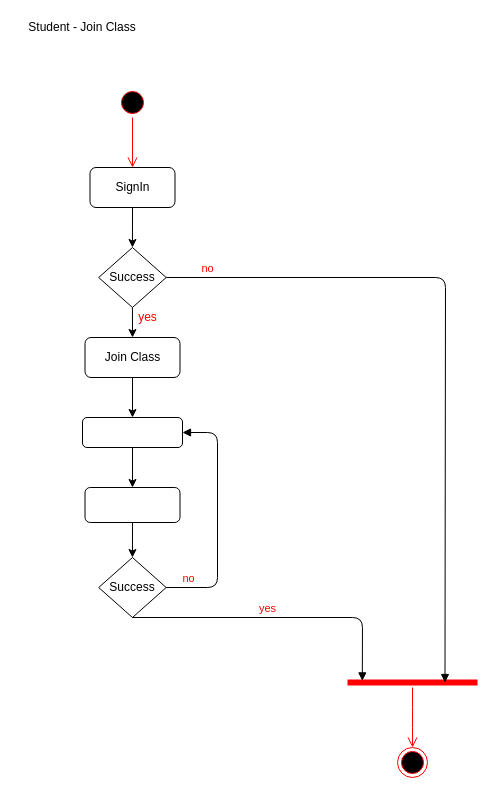
Image size: 497x795. Some labels were removed from this diagram. The shapes that lost their labels are listed below. From the top down, each one's centre as x and y in pixels, then its label:
At point (132, 432): "Enter class name".
At point (132, 504): "Save".
